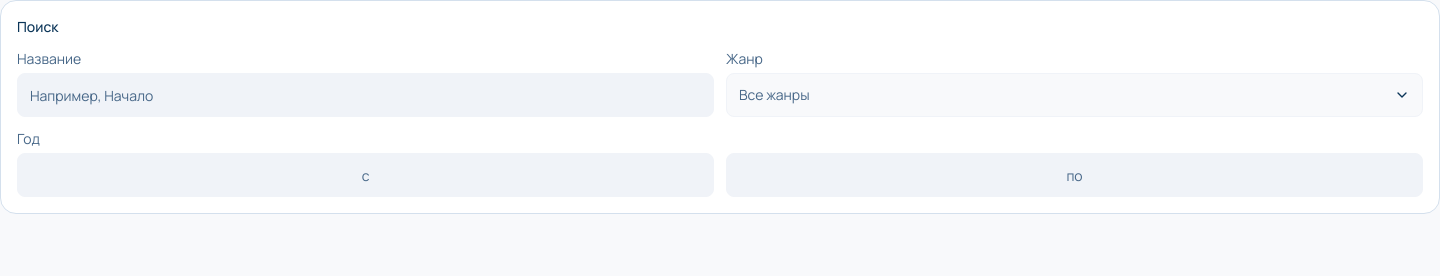
Test case: SearchField filters › derives genre options from the provided options and omits actor/director filters
Click the text "Жанр": (744, 58) [726, 49, 763, 68]
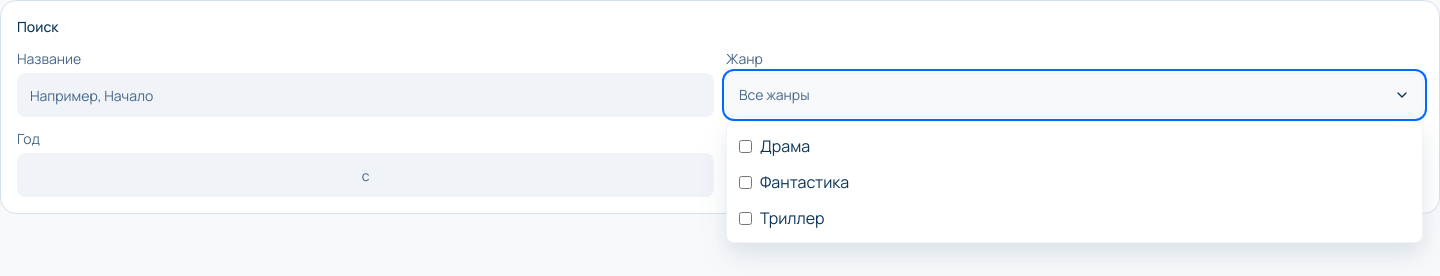
Now the checkbox labelled "Драма" is shown, box [739, 140, 752, 152]
